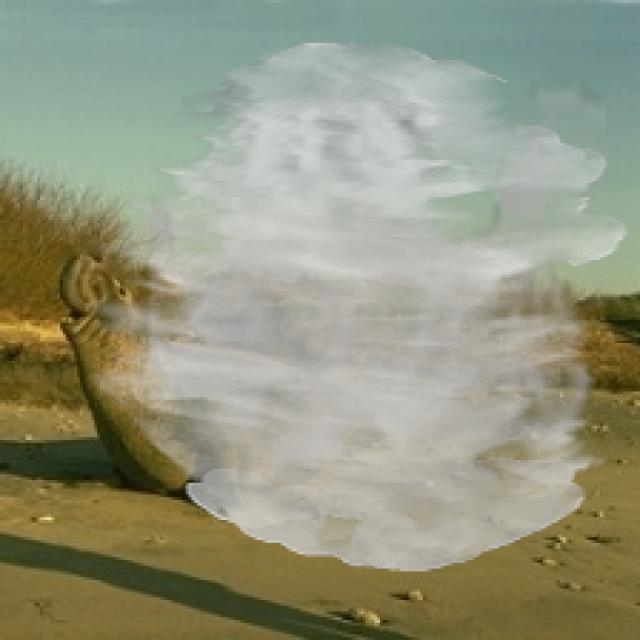Smoke: (86, 39, 628, 572)
